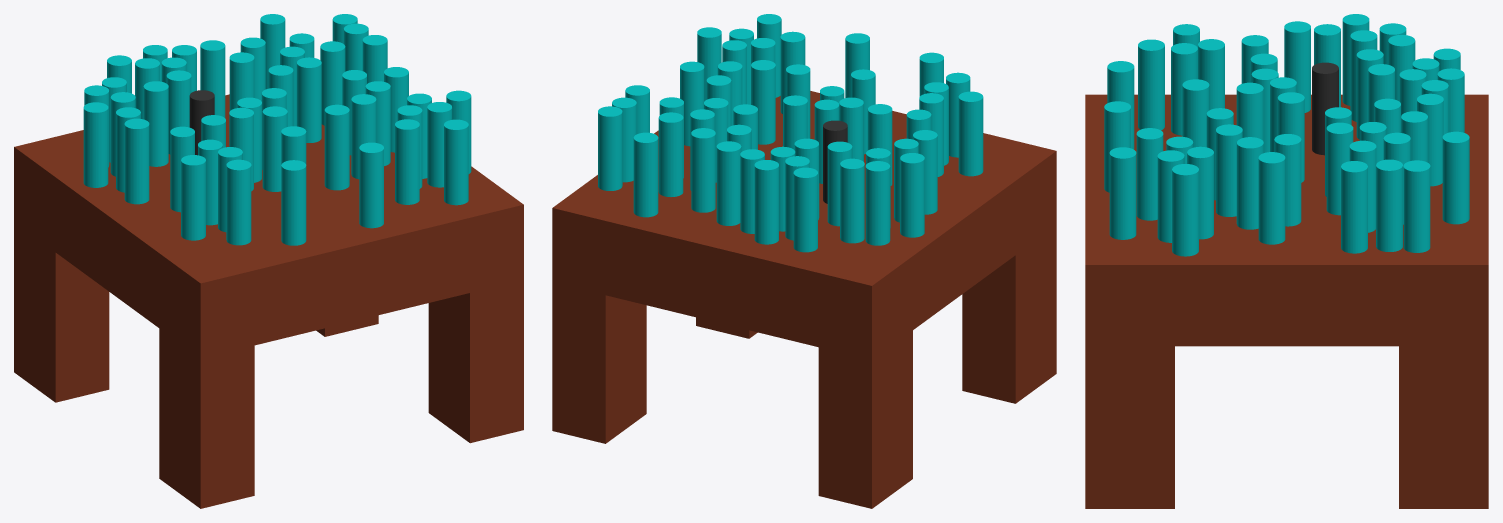
File: can_world_50_cans.dae
3 renders of one model, left to right at view 1: azimuth 30°, elevation 25°; view 2: azimuth 150°, elevation 25°; view 3: azimuth 270°, elevation 25°, orthographic. The views are drawn at different scales.
Parts seen in each view (by area): view 1: base (×48); view 2: base (×49); view 3: base (×51).
Boxes of the visible parts, left/top/right/bottom form: base (×48): left=14, top=14, right=523, bottom=508; base (×49): left=552, top=14, right=1056, bottom=508; base (×51): left=1085, top=14, right=1488, bottom=508.
Size of the model in its own units: 0.9 by 0.9 by 0.811.
